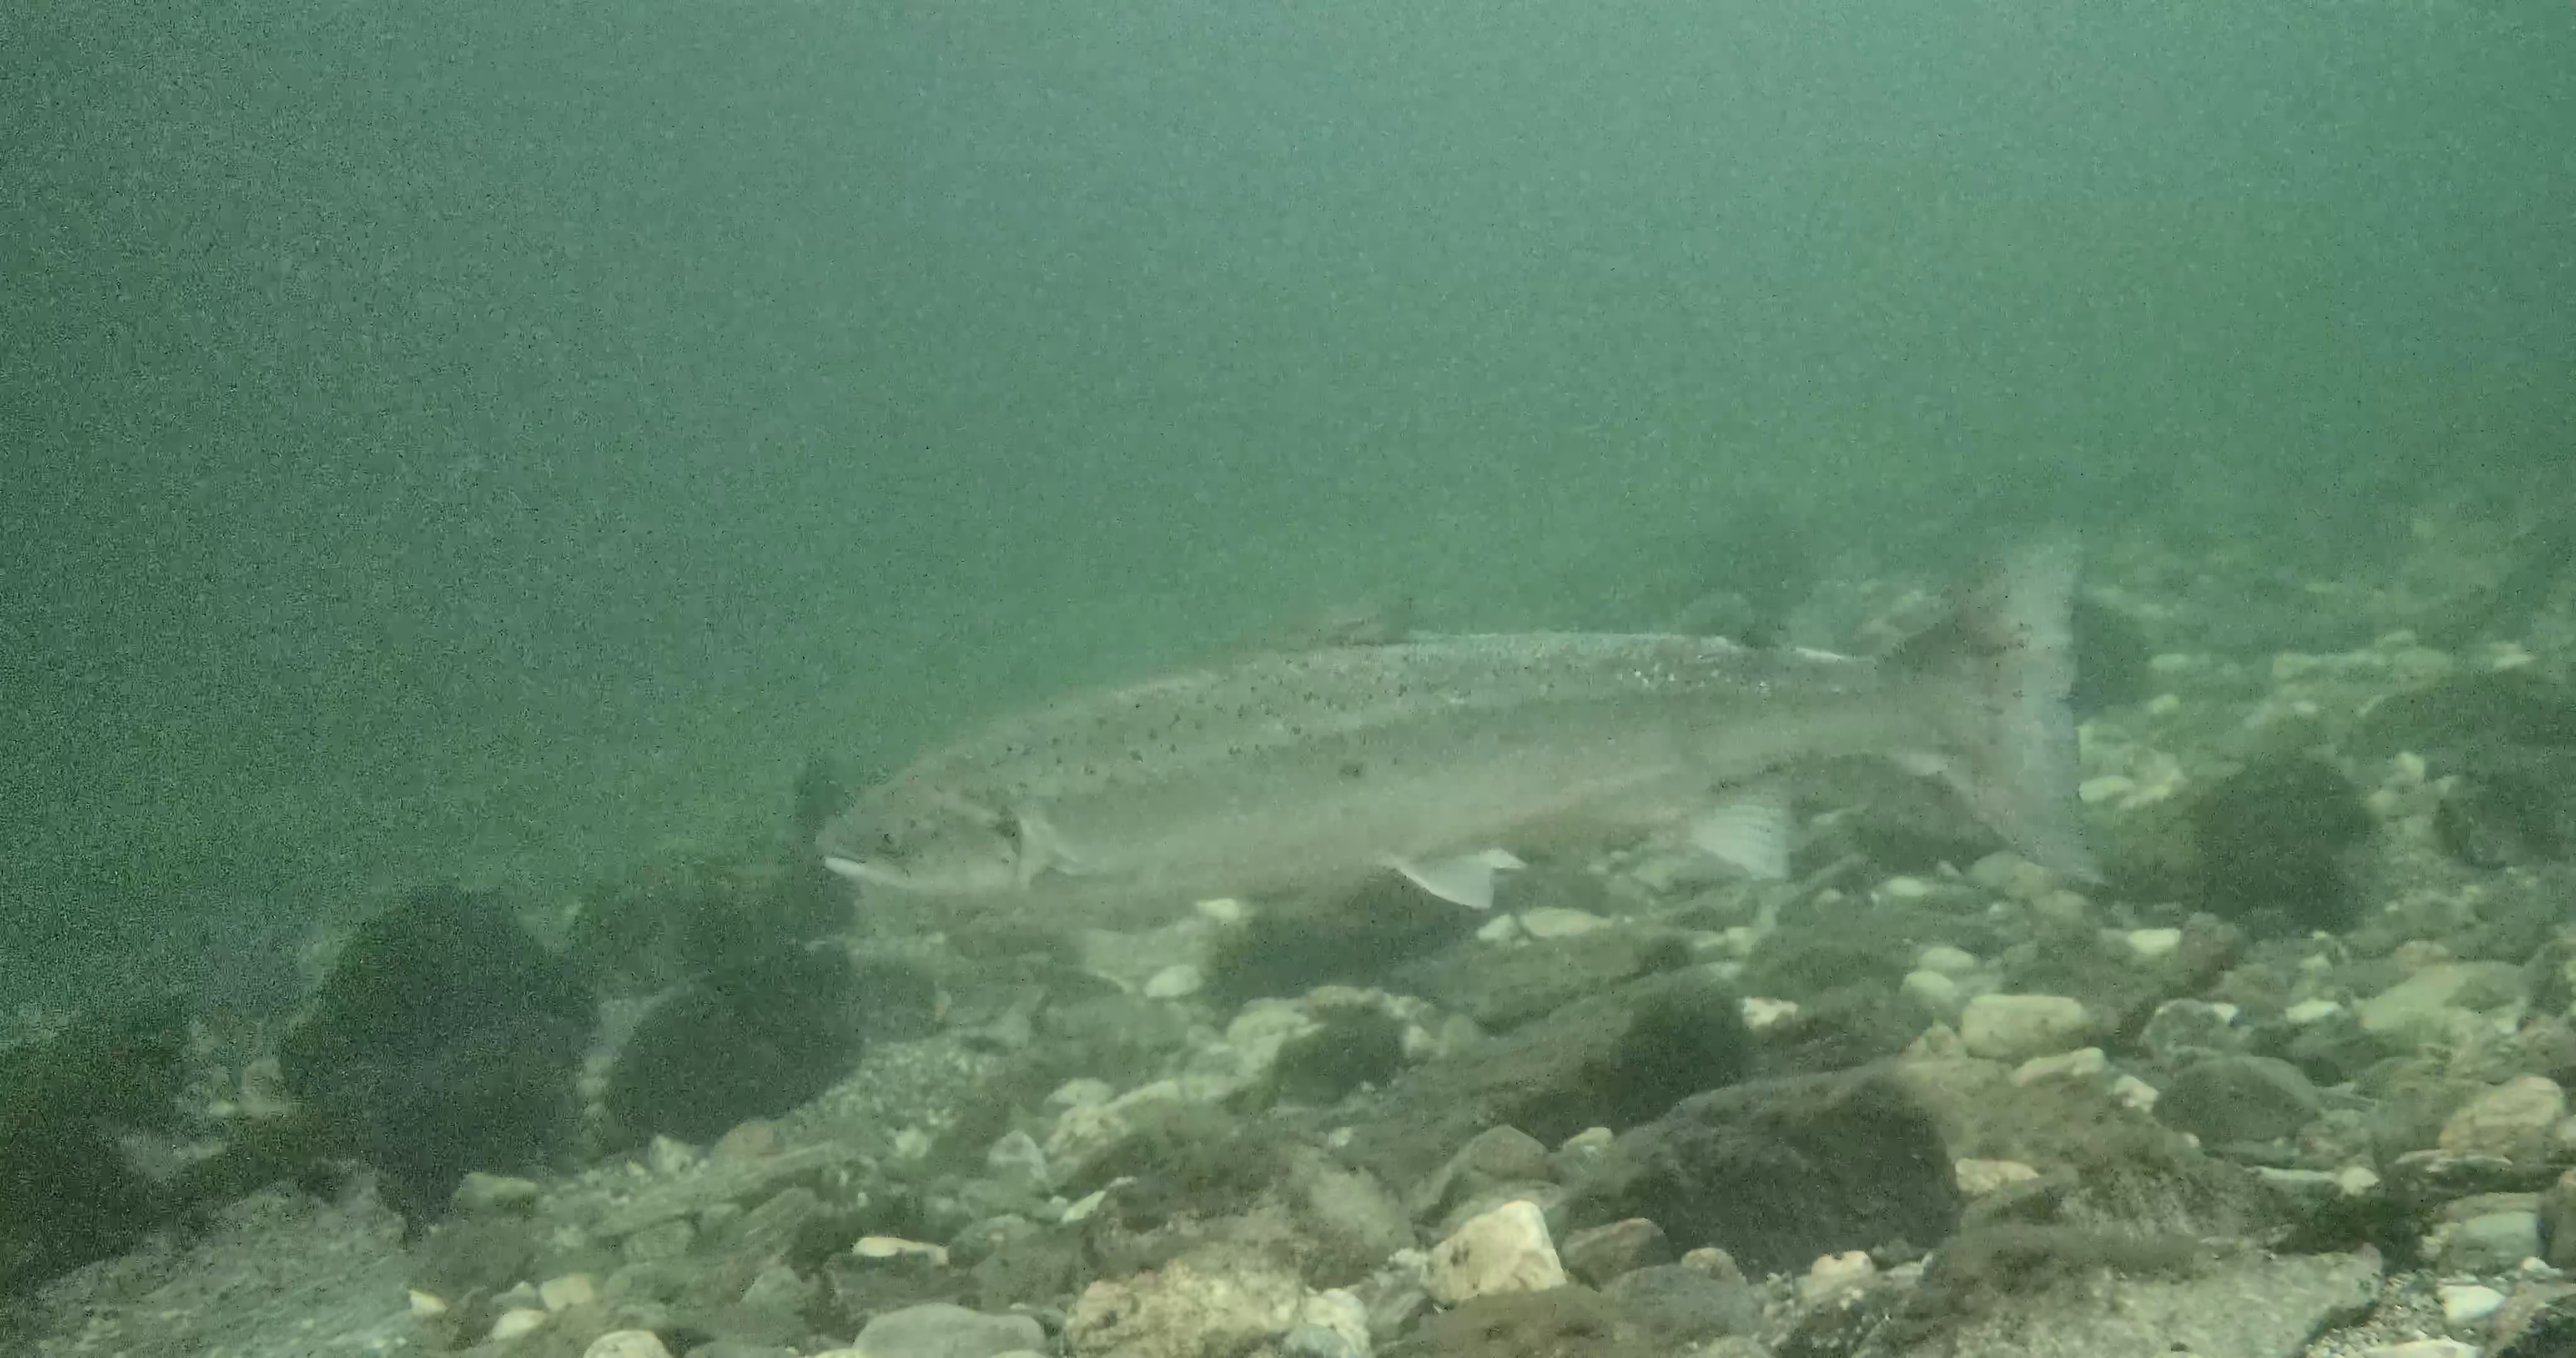salmon: (809, 533, 2119, 915)
